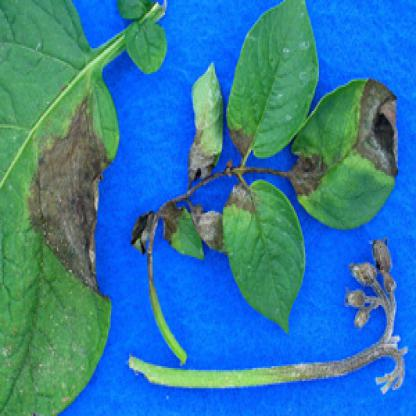Potato leaf late blight: (1, 2, 122, 396), (291, 74, 405, 235), (226, 2, 320, 163), (222, 176, 311, 335), (189, 61, 227, 185)
